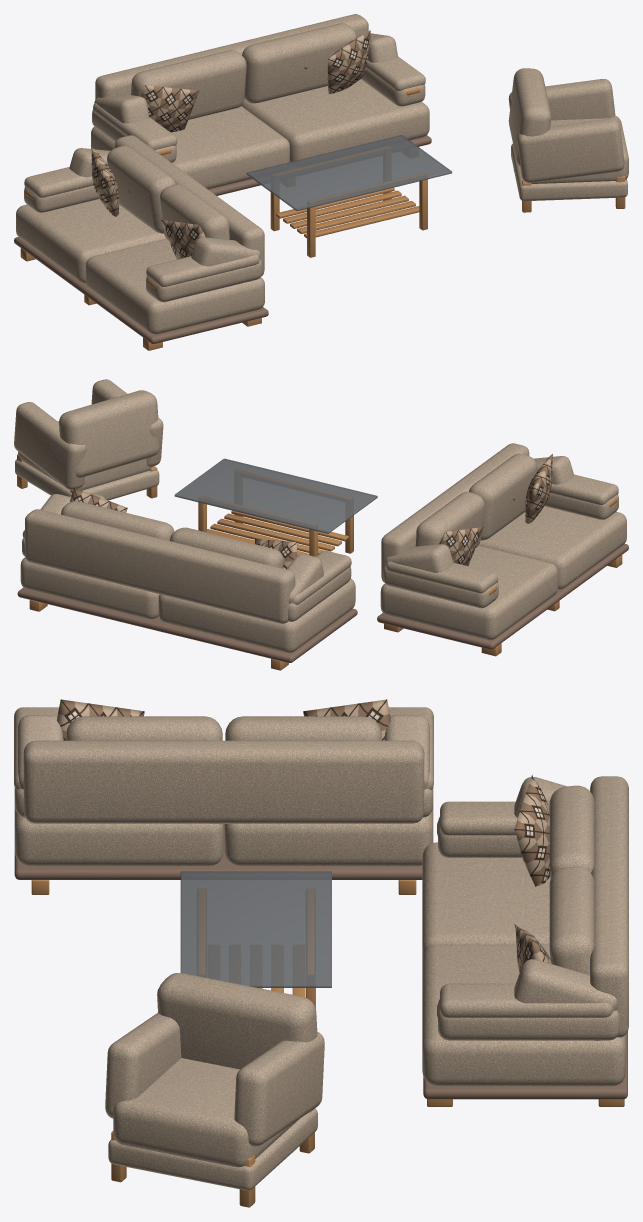
Rendered from oturma-grubu-tam-takim.glb.
3 renders of one model, top to bottom at view 1: azimuth 30°, elevation 25°; view 2: azimuth 150°, elevation 25°; view 3: azimuth 270°, elevation 25°, orthographic. The views are drawn at different scales.
Parts seen in each view (by area): view 1: MainSofa3_Seat_1, CT_GlassTop, SideSofa2_Seat_1, MainSofa3_Seat_0, SideSofa2_Seat_0, MainSofa3_BackCushion_1, Berjer_Arm_0, MainSofa3_BackCushion_0, SideSofa2_BackCushion_0, SideSofa2_BackFrame, MainSofa3_BackFrame, Berjer_Back (+27 smaller); view 2: MainSofa3_BackFrame, CT_GlassTop, SideSofa2_Seat_0, SideSofa2_Seat_1, Berjer_Back, MainSofa3_Seat_0, MainSofa3_Seat_1, Berjer_Arm_1, MainSofa3_Plinth, SideSofa2_BackCushion_1, SideSofa2_BackFrame, SideSofa2_Plinth (+23 smaller); view 3: SideSofa2_BackFrame, CT_GlassTop, MainSofa3_Seat_1, MainSofa3_Seat_0, Berjer_Seat, Berjer_Back, SideSofa2_Seat_1, SideSofa2_Seat_0, MainSofa3_BackFrame, Berjer_Arm_1, Berjer_Apron, SideSofa2_Plinth (+19 smaller).
Boxes of the visible parts, x1=… form: MainSofa3_Seat_1: x1=241, y1=79, x2=429, y2=161; CT_GlassTop: x1=246, y1=135, x2=452, y2=210; SideSofa2_Seat_1: x1=85, y1=238, x2=264, y2=334; MainSofa3_Seat_0: x1=91, y1=106, x2=289, y2=189; SideSofa2_Seat_0: x1=16, y1=199, x2=165, y2=283; MainSofa3_BackCushion_1: x1=242, y1=23, x2=356, y2=103; Berjer_Arm_0: x1=517, y1=118, x2=624, y2=183; MainSofa3_BackCushion_0: x1=130, y1=50, x2=246, y2=119; SideSofa2_BackCushion_0: x1=107, y1=145, x2=175, y2=233; SideSofa2_BackFrame: x1=114, y1=135, x2=264, y2=276; MainSofa3_BackFrame: x1=95, y1=14, x2=368, y2=99; Berjer_Back: x1=508, y1=68, x2=551, y2=166; MainSofa3_BackFrame: x1=25, y1=509, x2=295, y2=623; CT_GlassTop: x1=174, y1=458, x2=377, y2=533; SideSofa2_Seat_0: x1=380, y1=545, x2=557, y2=640; SideSofa2_Seat_1: x1=478, y1=506, x2=626, y2=589; Berjer_Back: x1=59, y1=390, x2=159, y2=477; MainSofa3_Seat_0: x1=158, y1=578, x2=355, y2=653; MainSofa3_Seat_1: x1=20, y1=557, x2=159, y2=619; Berjer_Arm_1: x1=14, y1=402, x2=86, y2=490; MainSofa3_Plinth: x1=17, y1=587, x2=357, y2=662; SideSofa2_BackCushion_1: x1=469, y1=453, x2=536, y2=540; SideSofa2_BackFrame: x1=381, y1=443, x2=529, y2=582; SideSofa2_Plinth: x1=377, y1=543, x2=628, y2=649; SideSofa2_BackFrame: x1=23, y1=740, x2=424, y2=823; CT_GlassTop: x1=180, y1=871, x2=331, y2=987; MainSofa3_Seat_1: x1=422, y1=944, x2=625, y2=1086; MainSofa3_Seat_0: x1=422, y1=842, x2=550, y2=958; Berjer_Seat: x1=113, y1=1058, x2=298, y2=1167; Berjer_Back: x1=157, y1=973, x2=317, y2=1069; SideSofa2_Seat_1: x1=14, y1=807, x2=223, y2=866; SideSofa2_Seat_0: x1=224, y1=806, x2=433, y2=866; MainSofa3_BackFrame: x1=590, y1=776, x2=628, y2=1037; Berjer_Arm_1: x1=234, y1=1032, x2=324, y2=1146; Berjer_Apron: x1=108, y1=1108, x2=317, y2=1190; SideSofa2_Plinth: x1=14, y1=824, x2=422, y2=879.
Bounding box in the file's own units: 4.37 × 0.8007 × 2.84.
5 materials, 2 textured.
